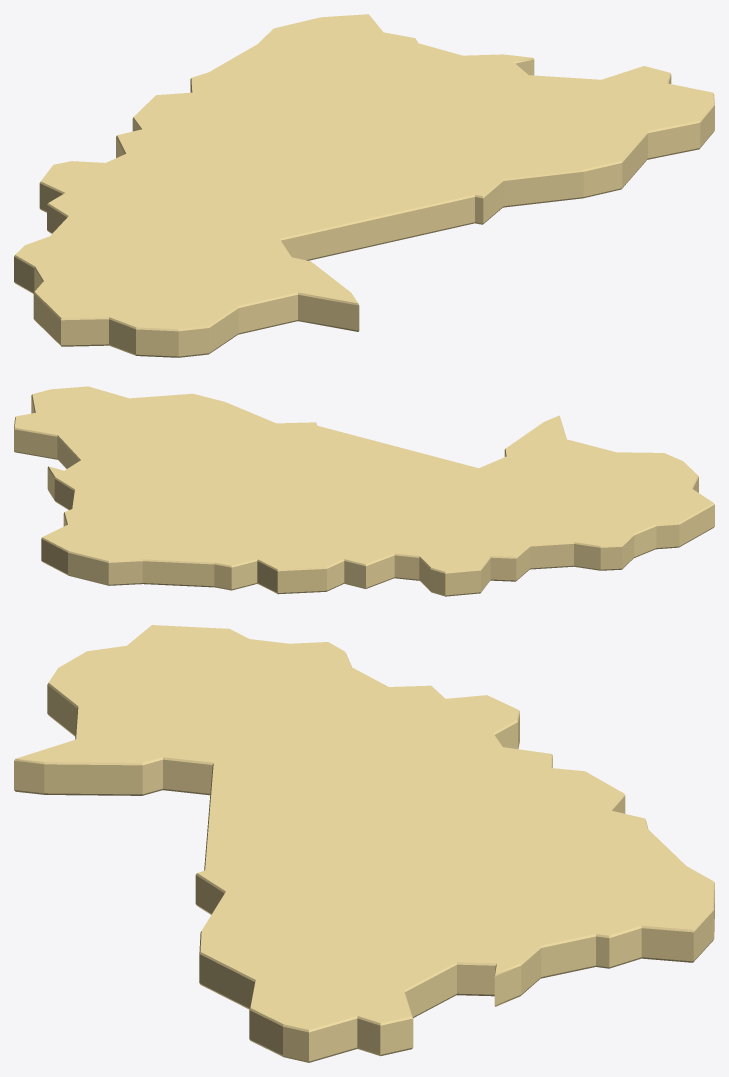
Rendered from BFA.glb.
3 renders of one model, top to bottom at view 1: azimuth 30°, elevation 25°; view 2: azimuth 150°, elevation 25°; view 3: azimuth 270°, elevation 25°, orthographic. The views are drawn at different scales.
Size of the model in its own units: 1.8 by 0.068 by 1.31.
